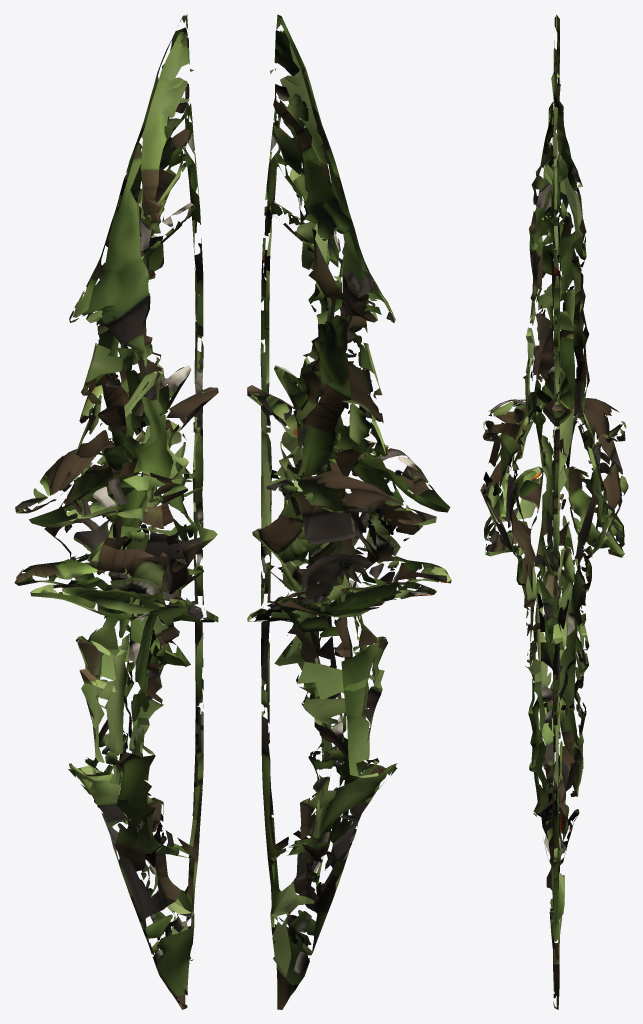
Rendered from DraconicBow.fbx.
3 views of the same model, side by side, from view 1: azimuth 30°, elevation 25°; view 2: azimuth 150°, elevation 25°; view 3: azimuth 270°, elevation 25° (orthographic).
Parts seen in each view (by area): view 1: Mesh_0; view 2: Mesh_0; view 3: Mesh_0.
Boxes of the visible parts, <box> form: Mesh_0: <box>14,14,218,1009</box>; Mesh_0: <box>247,14,451,1009</box>; Mesh_0: <box>480,14,628,1009</box>.
Size of the model in its own units: 20.62 by 100 by 13.56.
